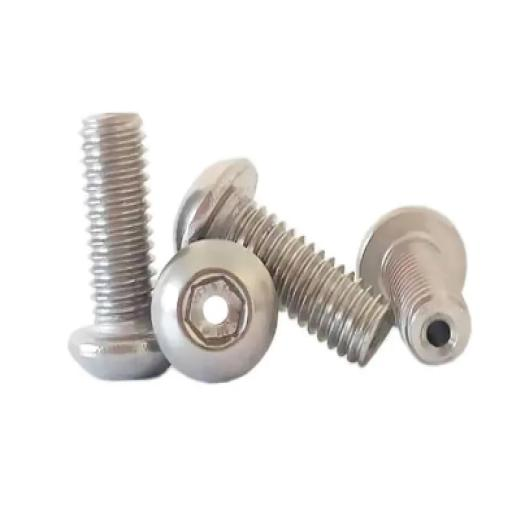Hex-Allen: (150, 241, 277, 387)
